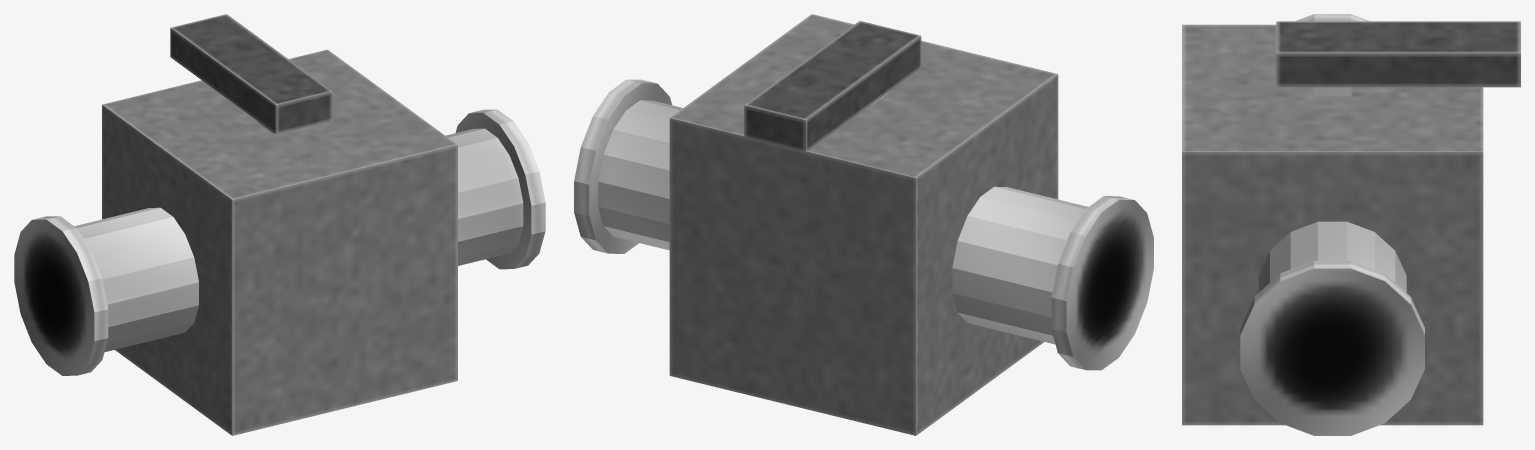
Rendered from pipeworks_valve_off.obj.
The picture shows the model from 3 angles, left to right: view 1: azimuth 30°, elevation 25°; view 2: azimuth 150°, elevation 25°; view 3: azimuth 270°, elevation 25°; orthographic projection. The views are drawn at different scales.
Parts seen in each view (by area): view 1: Cube.003; view 2: Cube.003; view 3: Cube.003.
Boxes of the visible parts, x1,y1,x2,y2 form: Cube.003: (14,14,545,435); Cube.003: (574,14,1153,435); Cube.003: (1182,14,1520,435).
Bounding box in the file's own units: 1 × 0.5938 × 0.5625.
